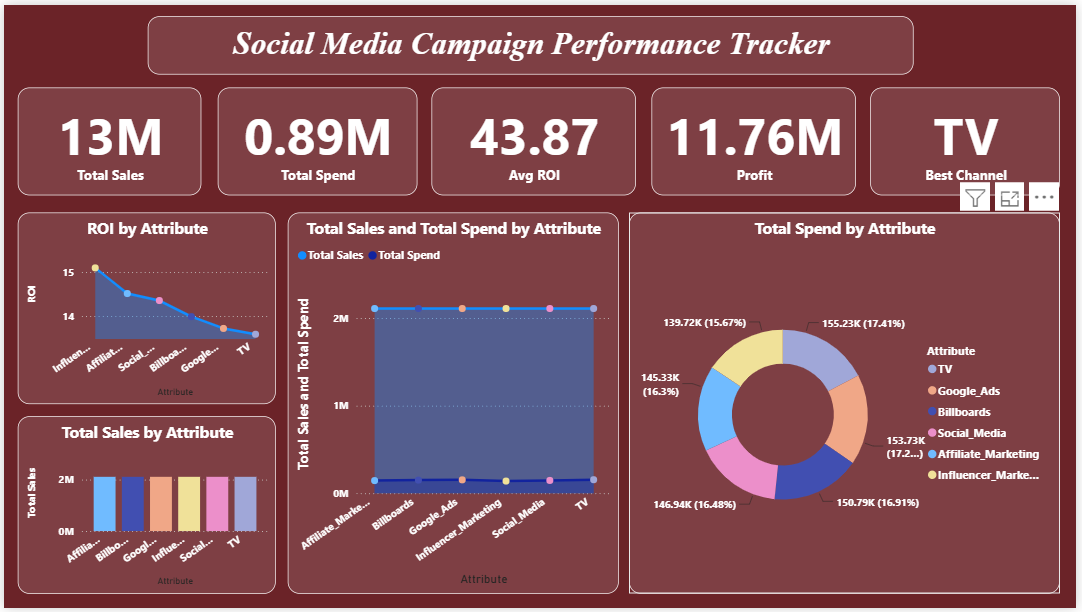

The page's visual inventory and layout, read from the dashboard file:
{"tool":"powerbi","page":{"name":"Page 1","canvas":[1280,720],"ordinal":0},"visuals":[{"type":"card","fields":{"Values":["Advertising_Data.Total Sales"]},"box":[17,98.3,219.2,128.5],"z":0},{"type":"card","fields":{"Values":["Advertising_Data.Total Spend"]},"box":[255.1,98.3,238.1,128.5],"z":1000},{"type":"card","fields":{"Values":["Advertising_Data.Avg ROI"]},"box":[510.2,98.3,243.8,128.5],"z":2000},{"type":"pieChart","fields":{"Category":["Advertising_Data.Attribute"],"Y":["Advertising_Data.Total Spend"]},"box":[746.5,247.6,514,455.4],"z":3000},{"type":"columnChart","fields":{"Category":["Advertising_Data.Attribute"],"Y":["Advertising_Data.Total Sales"]},"box":[17,491.3,308,211.7],"z":4000},{"type":"stackedAreaChart","fields":{"Category":["Advertising_Data.Attribute"],"Y":["Advertising_Data.ROI"]},"box":[17,247.6,308,228.7],"z":5000},{"type":"areaChart","fields":{"Category":["Advertising_Data.Attribute"],"Y":["Advertising_Data.Total Sales","Advertising_Data.Total Spend"]},"box":[338.3,247.6,395,455.4],"z":6000},{"type":"card","fields":{"Values":["Advertising_Data.Profit"]},"box":[772.9,98.3,243.8,128.5],"z":7000},{"type":"card","fields":{"Values":["Advertising_Data.Best Channel"]},"box":[1033.7,98.3,226.8,128.5],"z":8000},{"type":"textbox","box":[172,13.2,914.7,69.9],"z":9000}]}

Visuals, with their boxes in screenshot pixels (x1, y1, x2, y2), scaled from the page's 1280x720 canvas onto the 1082x612 screenshot:
card - Advertising_Data.Total Sales: bbox(14, 84, 200, 193)
card - Advertising_Data.Total Spend: bbox(216, 84, 417, 193)
card - Advertising_Data.Avg ROI: bbox(431, 84, 637, 193)
pieChart - Advertising_Data.Attribute x Advertising_Data.Total Spend: bbox(631, 210, 1066, 598)
columnChart - Advertising_Data.Attribute x Advertising_Data.Total Sales: bbox(14, 418, 275, 598)
stackedAreaChart - Advertising_Data.Attribute x Advertising_Data.ROI: bbox(14, 210, 275, 405)
areaChart - Advertising_Data.Attribute x Advertising_Data.Total Sales: bbox(286, 210, 620, 598)
card - Advertising_Data.Profit: bbox(653, 84, 859, 193)
card - Advertising_Data.Best Channel: bbox(874, 84, 1066, 193)
textbox: bbox(145, 11, 919, 71)
